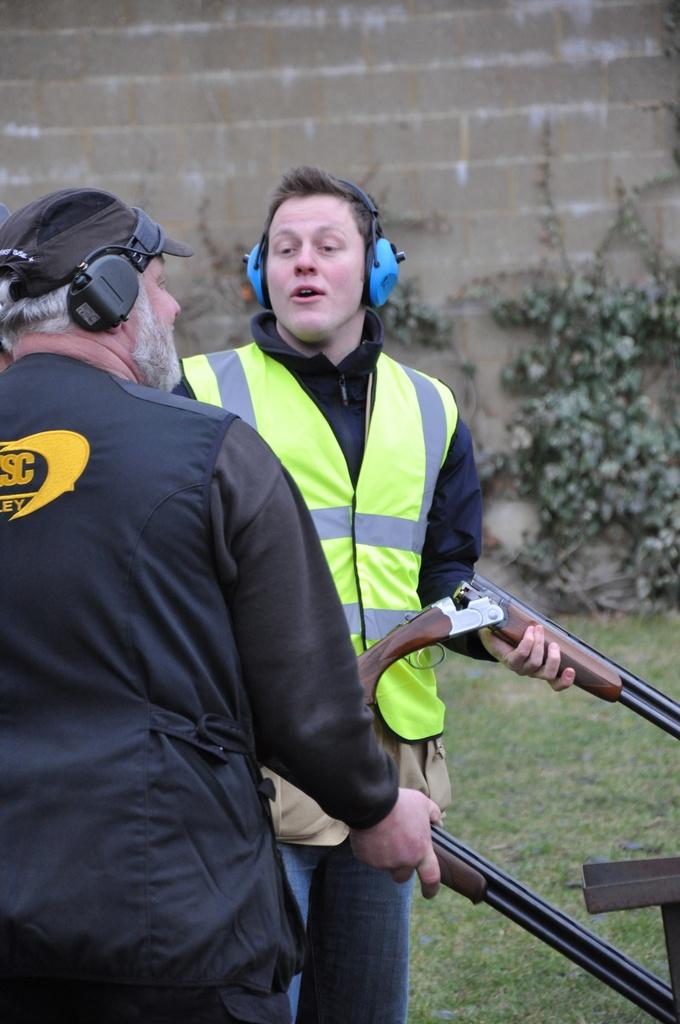Shotgun: (343, 825, 679, 1023), (410, 550, 680, 756)
